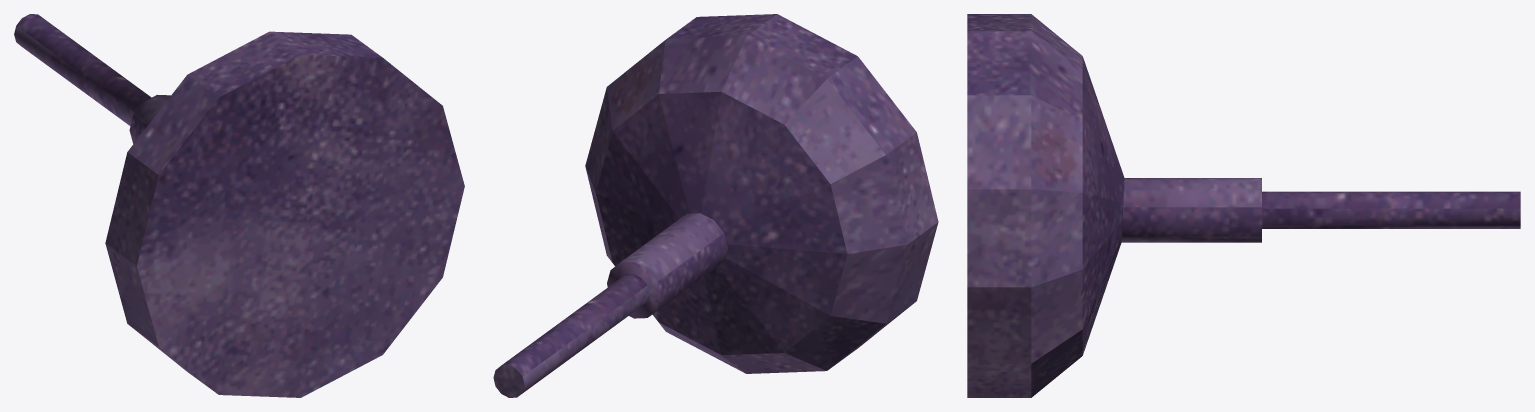
File: gun_turret_01.obj
The picture shows the model from 3 angles, left to right: view 1: azimuth 30°, elevation 25°; view 2: azimuth 150°, elevation 25°; view 3: azimuth 270°, elevation 25°; orthographic projection. The views are drawn at different scales.
Parts seen in each view (by area): view 1: gun_turret_01; view 2: gun_turret_01; view 3: gun_turret_01.
Boxes of the visible parts, x1,y1,x2,y2 form: gun_turret_01: (14, 14, 464, 397); gun_turret_01: (493, 14, 938, 397); gun_turret_01: (967, 14, 1520, 397).
Bounding box in the file's own units: 404 × 404 × 580.
